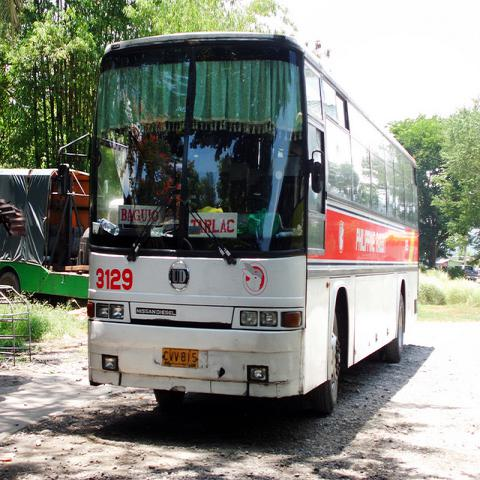bus: (91, 22, 433, 420)
truck: (1, 165, 92, 303)
